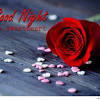rose: (49, 16, 99, 69)
